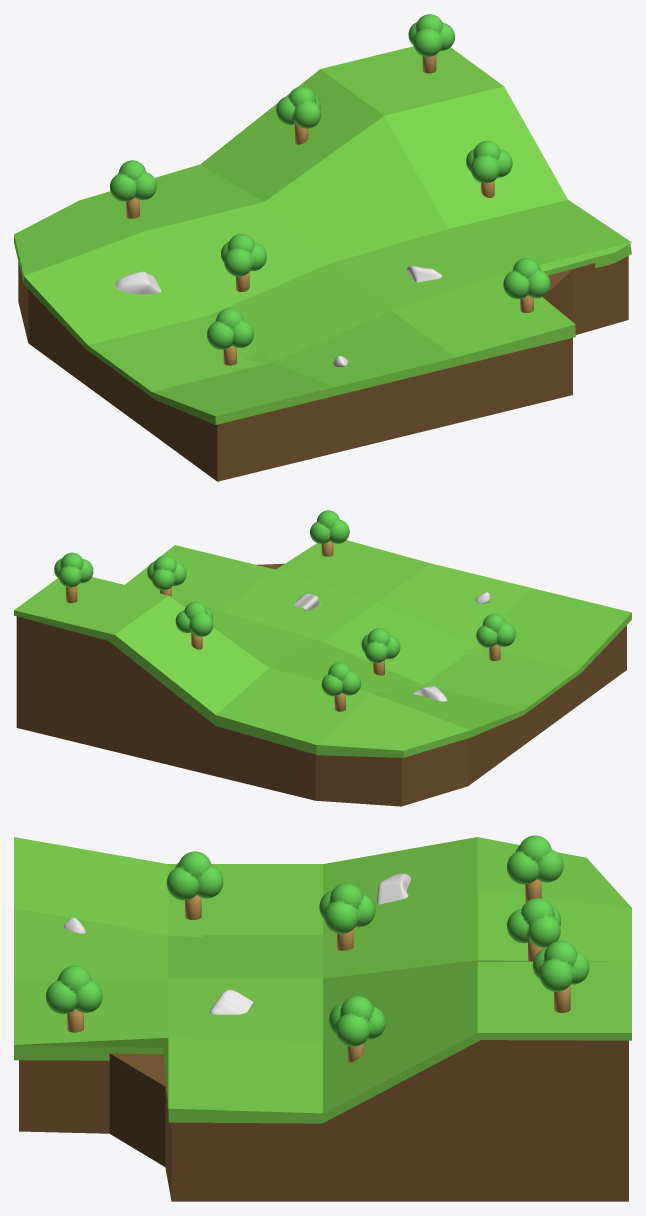
The model's file is ile_moyenne_herbe_2.fbx.
3 views of the same model, one above another, from view 1: azimuth 30°, elevation 25°; view 2: azimuth 150°, elevation 25°; view 3: azimuth 270°, elevation 25° (orthographic). The views are drawn at different scales.
Visible parts, largest first — view 1: herbe, terre, feuille.006, feuille, feuille.007, feuille.008, feuille.003, feuille.001, feuille.004, caillou.001; view 2: herbe, terre, feuille.001, feuille.006, feuille.007, feuille.008, feuille.004, feuille, feuille.003; view 3: herbe, terre, feuille.006, feuille.007, feuille.004, feuille.003, feuille, feuille.008, feuille.001, caillou.001, caillou.004.
Boxes of the visible parts, x1,y1,x2,y2 form: herbe: (14,46,631,424); terre: (18,256,628,481); feuille.006: (466,140,512,183); feuille: (110,160,156,201); feuille.007: (408,14,454,56); feuille.008: (503,258,550,299); feuille.003: (207,308,253,349); feuille.001: (276,86,320,128); feuille.004: (221,234,266,276); caillou.001: (115,271,160,294); herbe: (14,540,631,757); terre: (16,563,626,806); feuille.001: (175,601,213,636); feuille.006: (147,555,186,590); feuille.007: (54,552,93,587); feuille.008: (310,510,349,543); feuille.004: (361,628,400,663); feuille: (321,662,361,696); feuille.003: (476,613,515,647); herbe: (14,837,631,1123); terre: (19,1040,628,1201); feuille.006: (329,995,385,1046); feuille.007: (532,940,589,991); feuille.004: (319,883,375,933); feuille.003: (166,851,223,900); feuille: (507,835,563,884); feuille.008: (46,965,102,1014); feuille.001: (507,898,560,947); caillou.001: (377,873,410,904); caillou.004: (209,989,253,1014).
Size of the model in its own units: 3239 by 1263 by 2984.
